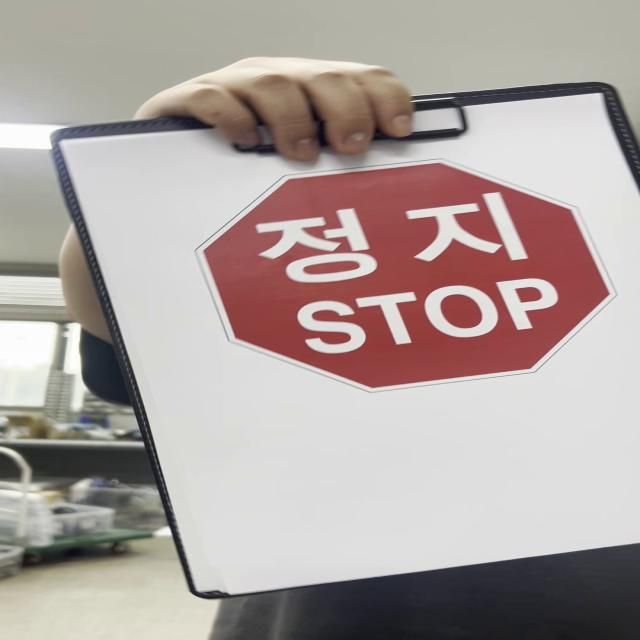stop: (196, 158, 618, 396)
